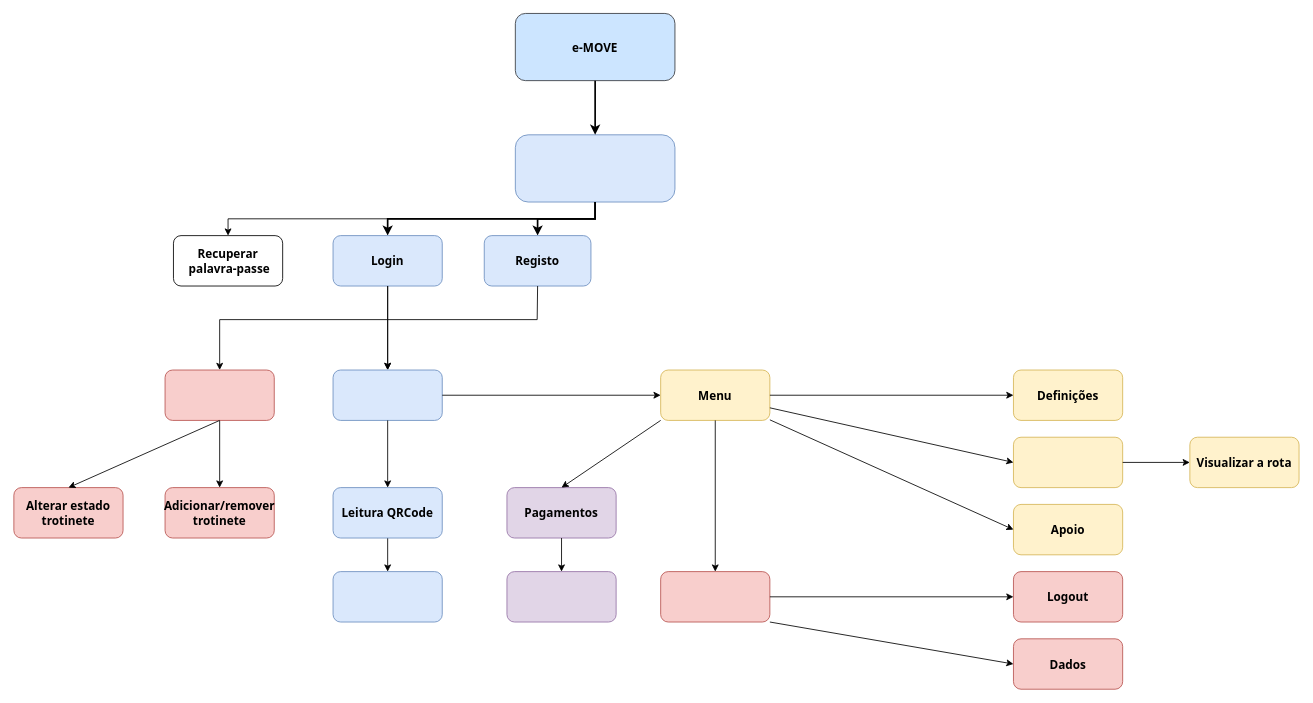
The diagram is 1313 pixels wide and 703 high, and some of its shapes have lost their labels. The centre of each missing label's shape, as x and y in pixels:
Alterar cartão: [561,596]
Aluguer: [387,596]
Dashboard: [219,394]
Histórico de rotas: [1068,462]
Mapa: [387,394]
Perfil: [715,596]
Splash Screen: [594,168]
